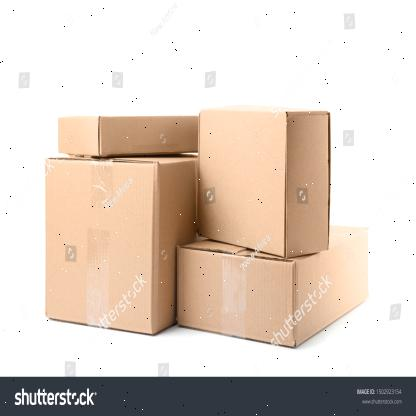box: (44, 157, 154, 331), (198, 108, 284, 260), (178, 251, 293, 346), (99, 113, 201, 157)
